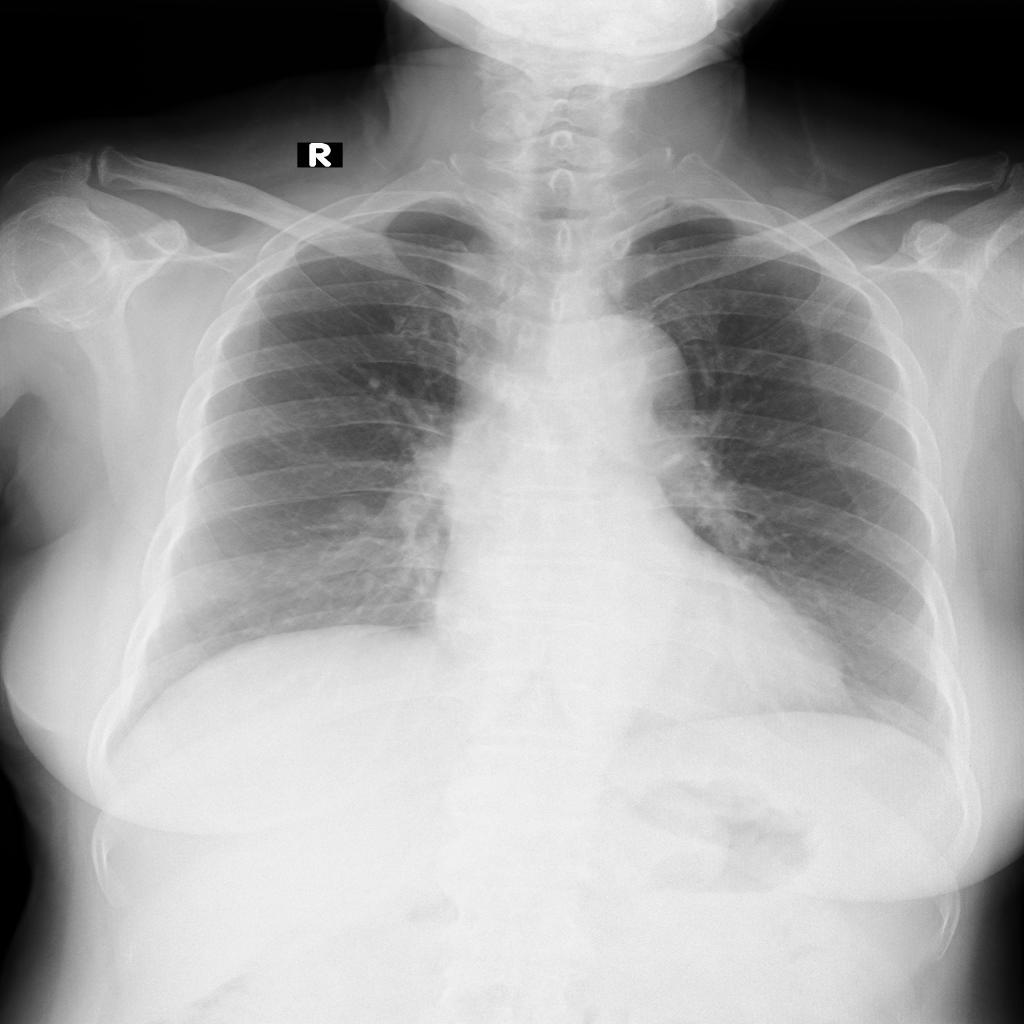Nodule: (339, 500, 368, 522)
